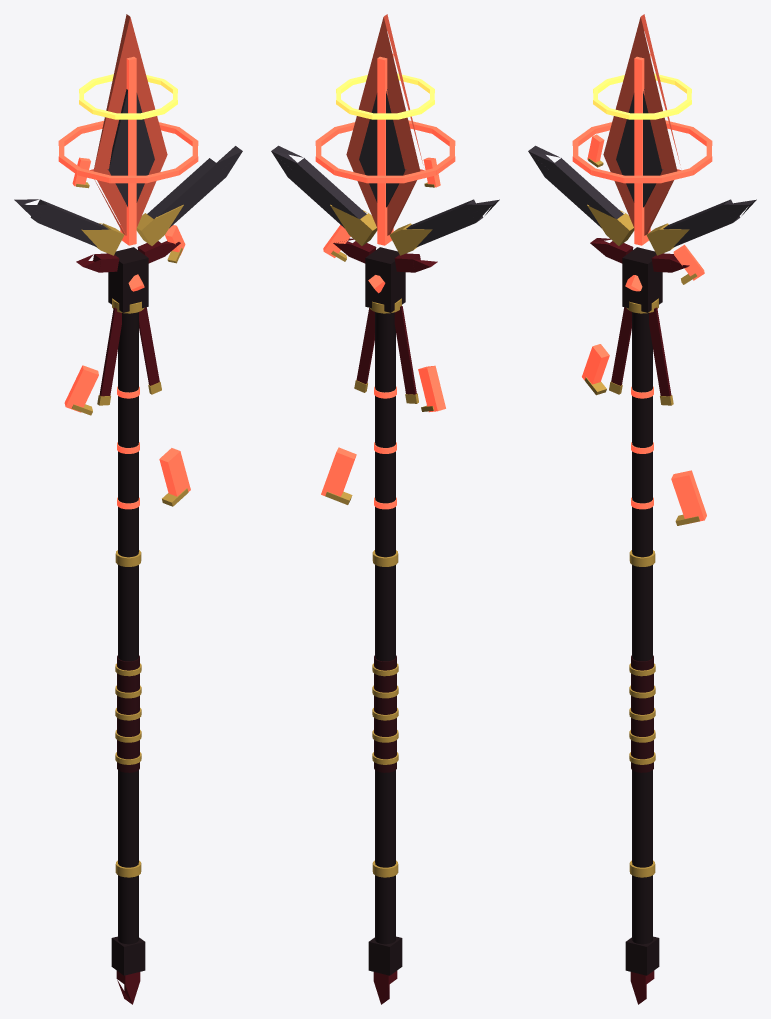
3 views of the same model, side by side, from view 1: azimuth 30°, elevation 25°; view 2: azimuth 150°, elevation 25°; view 3: azimuth 330°, elevation 25° (orthographic).
Parts seen in each view (by area): view 1: last-stand-partisan; view 2: last-stand-partisan; view 3: last-stand-partisan.
Part boxes in pixels (x1,y1,x2,y2): last-stand-partisan: (14,14,242,1004); last-stand-partisan: (271,14,499,1004); last-stand-partisan: (528,14,756,1004).
Size of the model in its own units: 0.5355 by 2.28 by 0.2926.
